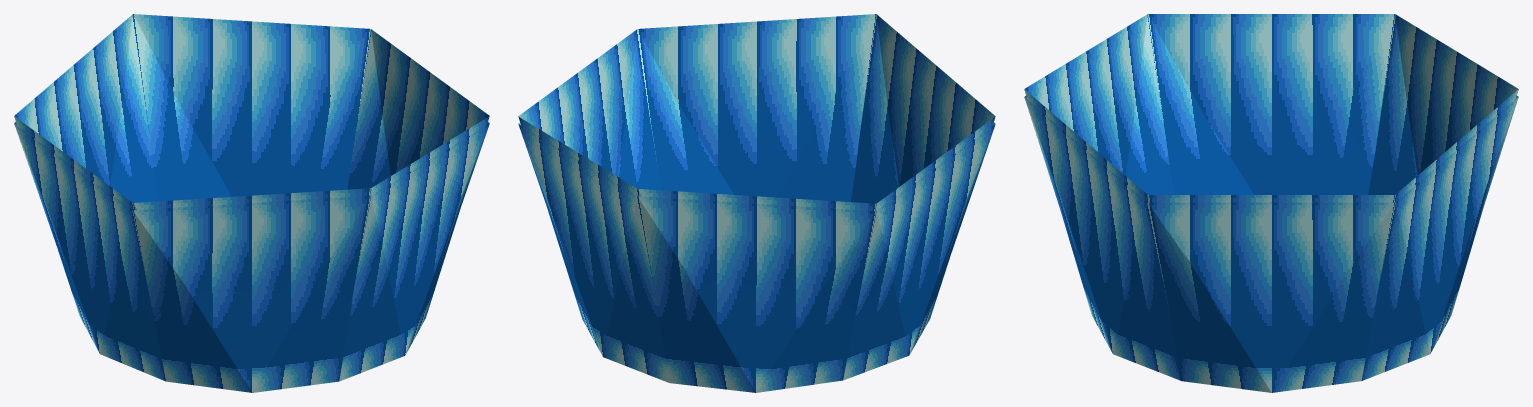
3 renders of one model, left to right at view 1: azimuth 30°, elevation 25°; view 2: azimuth 150°, elevation 25°; view 3: azimuth 270°, elevation 25°, orthographic. The views are drawn at different scales.
Visible parts, largest first — view 1: 1367item2757; view 2: 1367item2757; view 3: 1367item2757.
Boxes of the visible parts, x1=… form: 1367item2757: x1=14, y1=14, x2=489, y2=392; 1367item2757: x1=518, y1=14, x2=995, y2=392; 1367item2757: x1=1024, y1=14, x2=1518, y2=392.
Size of the model in its own units: 1.22 by 0.7102 by 1.41.
1 material, 1 textured.
